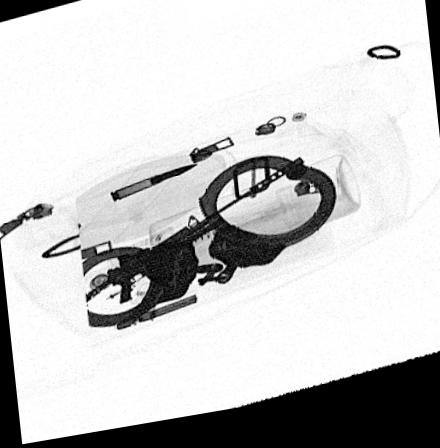Bullet: (110, 169, 196, 206)
Gun: (85, 167, 307, 308)
HandCuffs: (79, 164, 341, 333)
